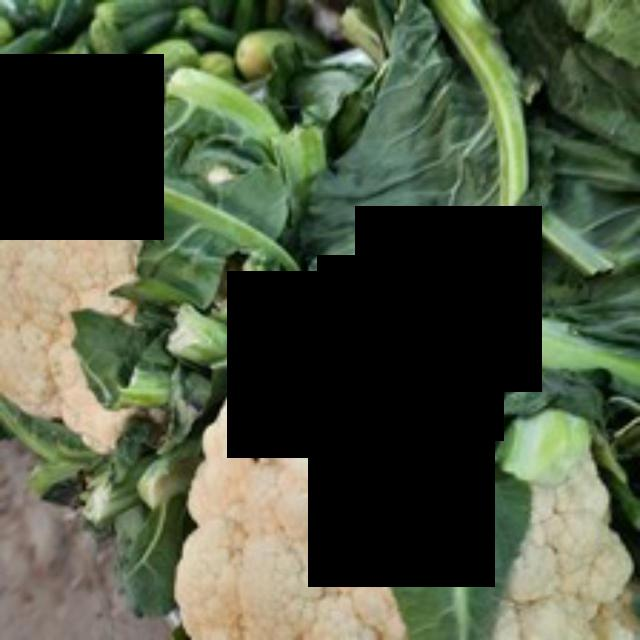cauliflower: (168, 348, 637, 637)
